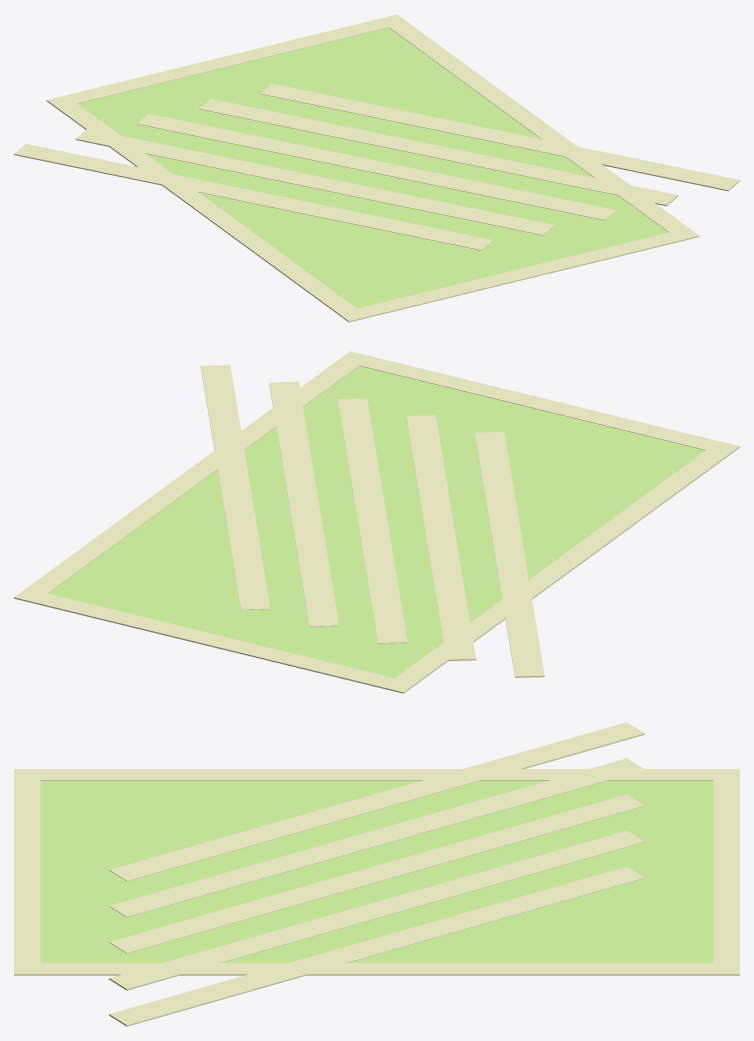
File: marking_conflict_zone_panel_green.glb
The picture shows the model from 3 angles, top to bottom: view 1: azimuth 30°, elevation 25°; view 2: azimuth 150°, elevation 25°; view 3: azimuth 270°, elevation 25°; orthographic projection. The views are drawn at different scales.
Visible parts, largest first — view 1: conflict_green_fill, conflict_green_hatch_2, conflict_green_hatch_4, conflict_green_hatch_3, conflict_green_hatch_0, conflict_green_hatch_1, conflict_green_left, conflict_green_right, conflict_green_bottom, conflict_green_top; view 2: conflict_green_fill, conflict_green_hatch_2, conflict_green_hatch_0, conflict_green_hatch_4, conflict_green_hatch_3, conflict_green_hatch_1, conflict_green_left, conflict_green_right, conflict_green_top, conflict_green_bottom; view 3: conflict_green_fill, conflict_green_hatch_2, conflict_green_hatch_3, conflict_green_hatch_4, conflict_green_right, conflict_green_hatch_0, conflict_green_hatch_1, conflict_green_left, conflict_green_top, conflict_green_bottom.
Part boxes in pixels (bbox=[...]): conflict_green_fill: bbox=[78, 27, 668, 308]; conflict_green_hatch_2: bbox=[137, 113, 616, 220]; conflict_green_hatch_4: bbox=[260, 83, 739, 191]; conflict_green_hatch_3: bbox=[199, 98, 678, 206]; conflict_green_hatch_0: bbox=[14, 144, 493, 250]; conflict_green_hatch_1: bbox=[75, 129, 554, 235]; conflict_green_left: bbox=[57, 103, 356, 313]; conflict_green_right: bbox=[389, 22, 687, 232]; conflict_green_bottom: bbox=[338, 227, 699, 322]; conflict_green_top: bbox=[46, 14, 407, 108]; conflict_green_fill: bbox=[48, 366, 705, 677]; conflict_green_hatch_2: bbox=[337, 398, 407, 643]; conflict_green_hatch_0: bbox=[475, 432, 544, 677]; conflict_green_hatch_4: bbox=[200, 365, 270, 610]; conflict_green_hatch_3: bbox=[269, 381, 338, 626]; conflict_green_hatch_1: bbox=[406, 415, 476, 661]; conflict_green_left: bbox=[395, 450, 727, 684]; conflict_green_right: bbox=[27, 360, 359, 593]; conflict_green_top: bbox=[14, 588, 415, 693]; conflict_green_bottom: bbox=[338, 351, 739, 456]; conflict_green_fill: bbox=[40, 780, 713, 962]; conflict_green_hatch_2: bbox=[109, 794, 644, 953]; conflict_green_hatch_3: bbox=[109, 830, 644, 990]; conflict_green_hatch_4: bbox=[109, 866, 644, 1026]; conflict_green_right: bbox=[40, 963, 713, 975]; conflict_green_hatch_0: bbox=[109, 722, 644, 881]; conflict_green_hatch_1: bbox=[109, 758, 643, 917]; conflict_green_left: bbox=[40, 769, 713, 780]; conflict_green_top: bbox=[713, 769, 739, 975]; conflict_green_bottom: bbox=[14, 769, 40, 975].
Size of the model in its own units: 2.69 by 0.006 by 2.72.
